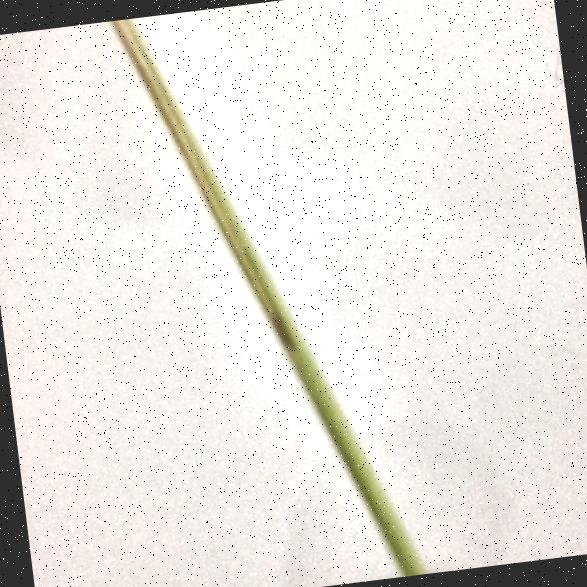Leaf_smut: (258, 286, 316, 362)
